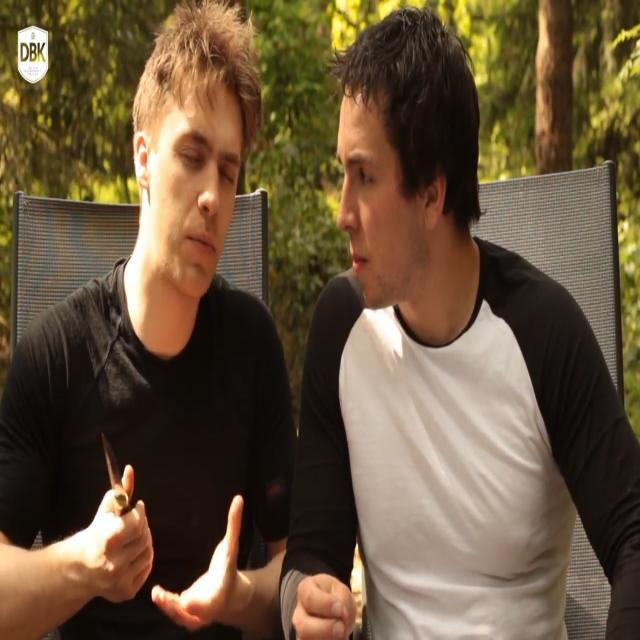knife: (102, 429, 132, 520)
